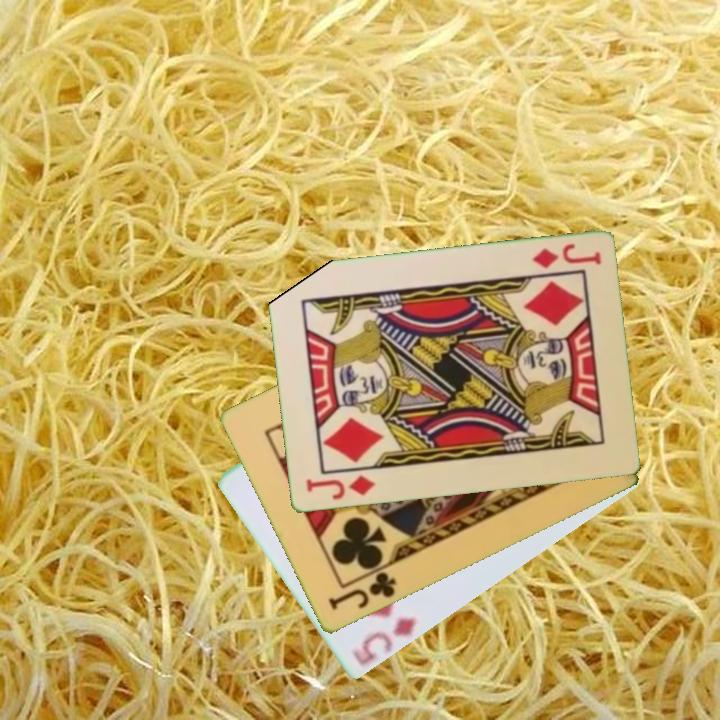5d: (353, 613, 419, 670)
Jc: (324, 568, 399, 614)
Jd: (528, 240, 604, 272), (302, 472, 378, 503)
